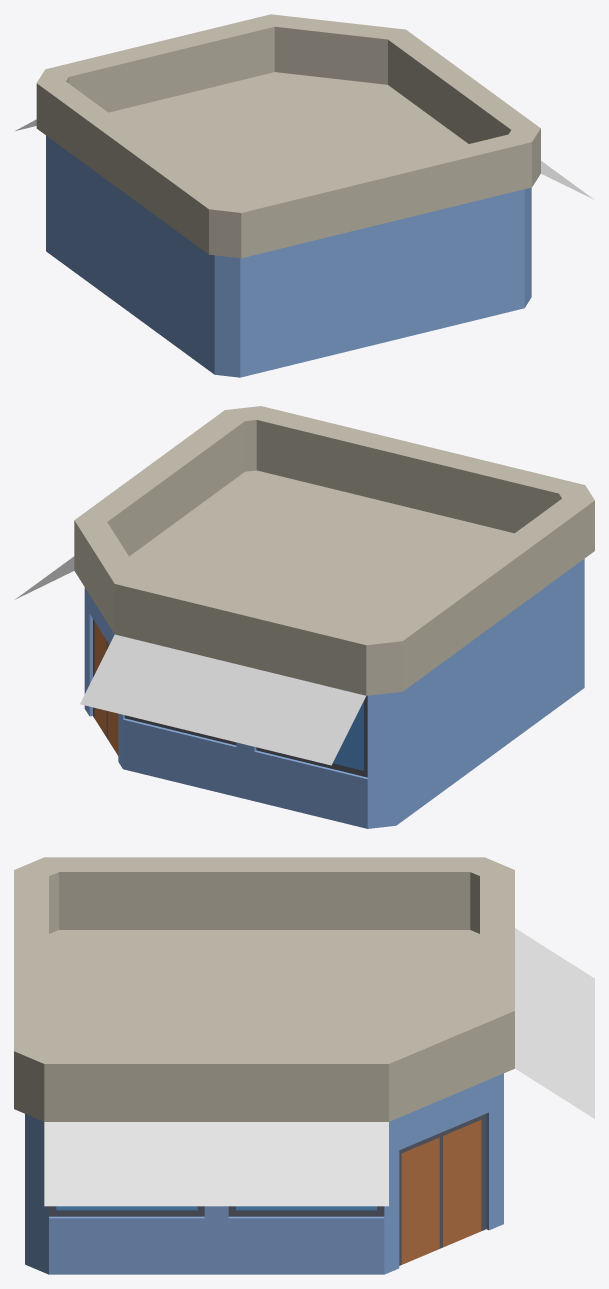
Rendered from cafe_b3.fbx.
3 views of the same model, one above another, from view 1: azimuth 30°, elevation 25°; view 2: azimuth 150°, elevation 25°; view 3: azimuth 270°, elevation 25° (orthographic). The views are drawn at different scales.
Visible parts, largest first — view 1: Cafe1.001; view 2: Cafe1.001; view 3: Cafe1.001.
Boxes of the visible parts, <box> form: Cafe1.001: <box>15,14,593,377</box>; Cafe1.001: <box>15,406,594,828</box>; Cafe1.001: <box>14,857,594,1274</box>.
Bounding box in the file's own units: 7130 × 2976 × 7277.
